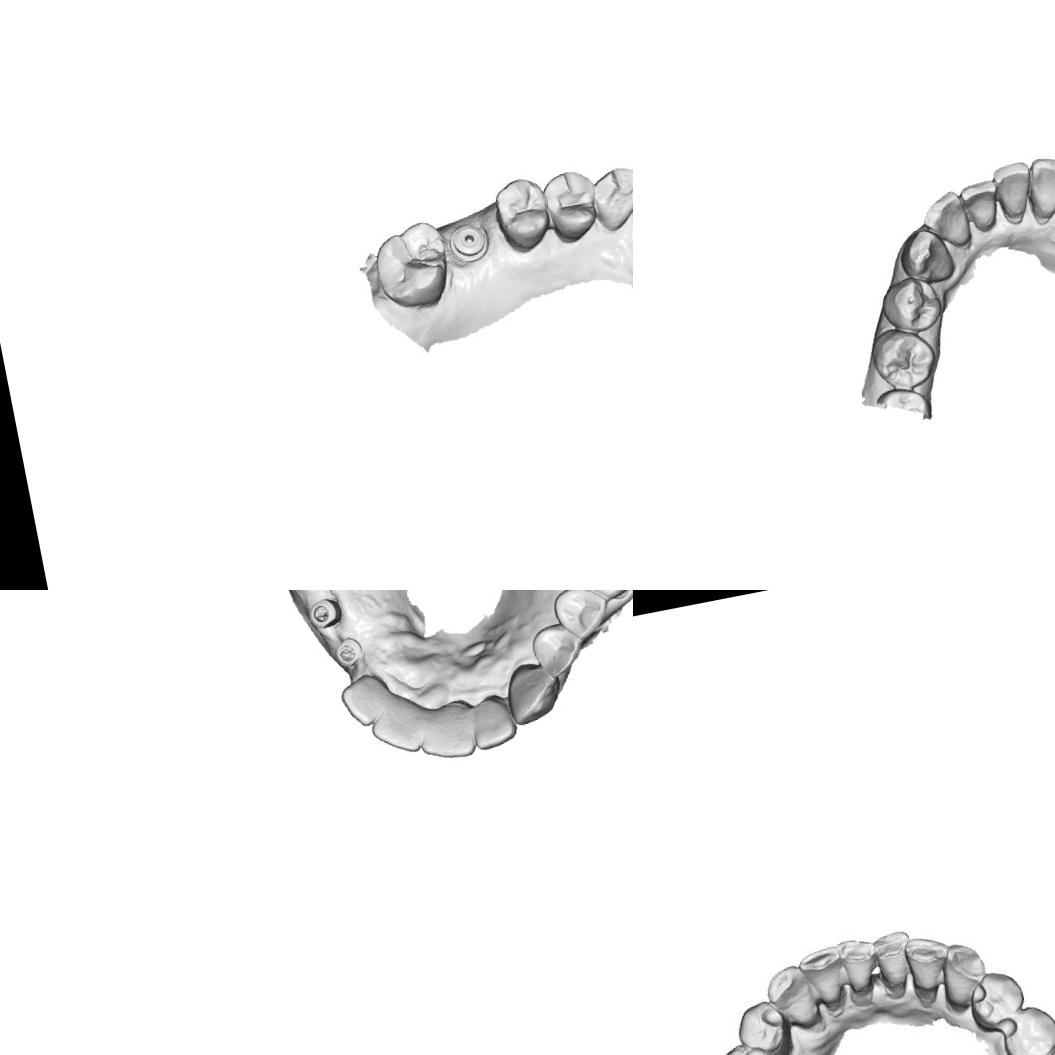canine: (762, 960, 826, 1036), (501, 656, 567, 727), (936, 936, 994, 1010), (894, 224, 957, 288), (587, 161, 633, 233)
implant: (448, 217, 493, 263), (304, 594, 346, 632), (330, 634, 366, 670)
incisor: (796, 941, 861, 1023), (412, 693, 477, 766), (364, 690, 430, 760), (865, 928, 922, 1009), (836, 933, 893, 1008), (918, 187, 974, 254), (336, 668, 396, 730), (902, 935, 950, 1009), (989, 158, 1039, 227), (466, 690, 520, 752), (956, 177, 1004, 235), (1021, 151, 1055, 225)
molar: (364, 214, 458, 316)
premolar: (866, 320, 942, 397), (488, 172, 558, 252), (538, 164, 606, 245), (876, 270, 945, 338), (731, 990, 793, 1055), (527, 618, 589, 682), (549, 590, 614, 644), (970, 970, 1026, 1031), (1003, 1007, 1055, 1055), (710, 1041, 773, 1055)
